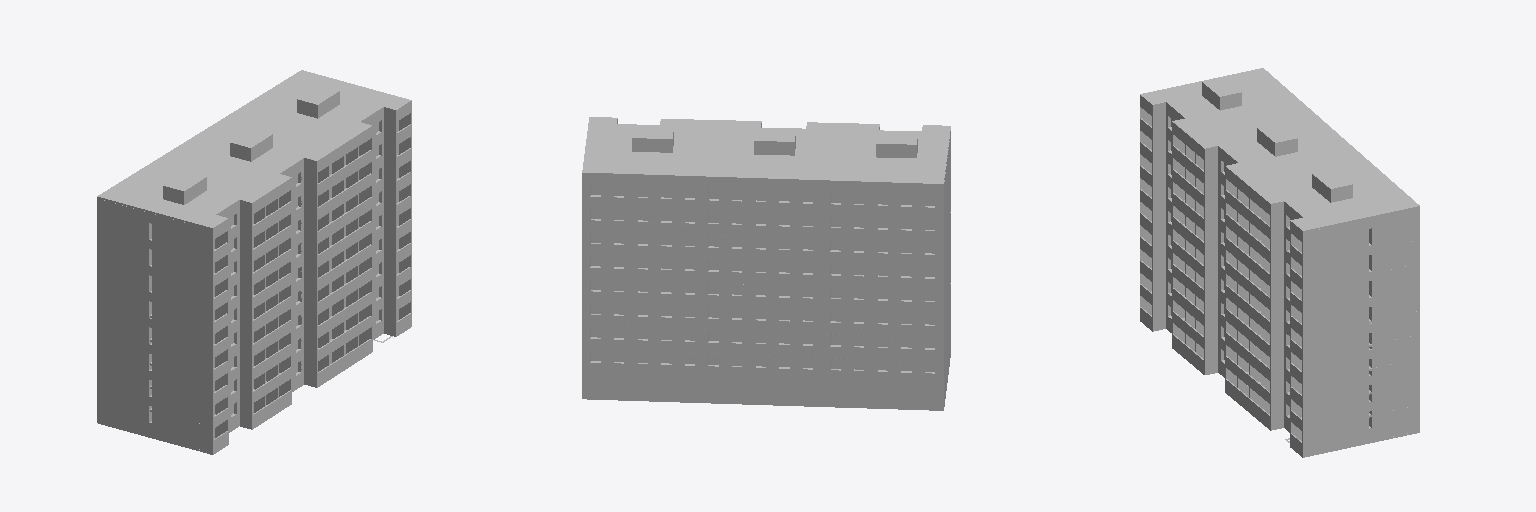
The model's file is Redbuilding.obj.
3 renders of one model, left to right at view 1: azimuth 30°, elevation 25°; view 2: azimuth 150°, elevation 25°; view 3: azimuth 270°, elevation 25°, orthographic.
Visible parts, largest first — view 1: Mesh1 Component_3_1 Model; view 2: Mesh1 Component_3_1 Model; view 3: Mesh1 Component_3_1 Model.
Boxes of the visible parts, x1=… form: Mesh1 Component_3_1 Model: x1=97, y1=70, x2=411, y2=454; Mesh1 Component_3_1 Model: x1=582, y1=117, x2=950, y2=410; Mesh1 Component_3_1 Model: x1=1140, y1=68, x2=1419, y2=457.
Size of the model in its own units: 53665 by 36852 by 38939.